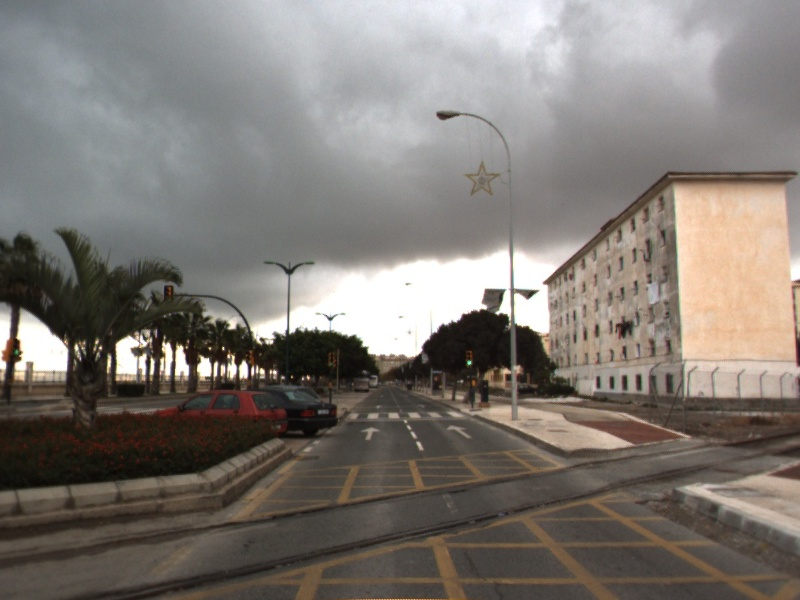STRAIGHT: (444, 423, 474, 440), (358, 424, 382, 442)
